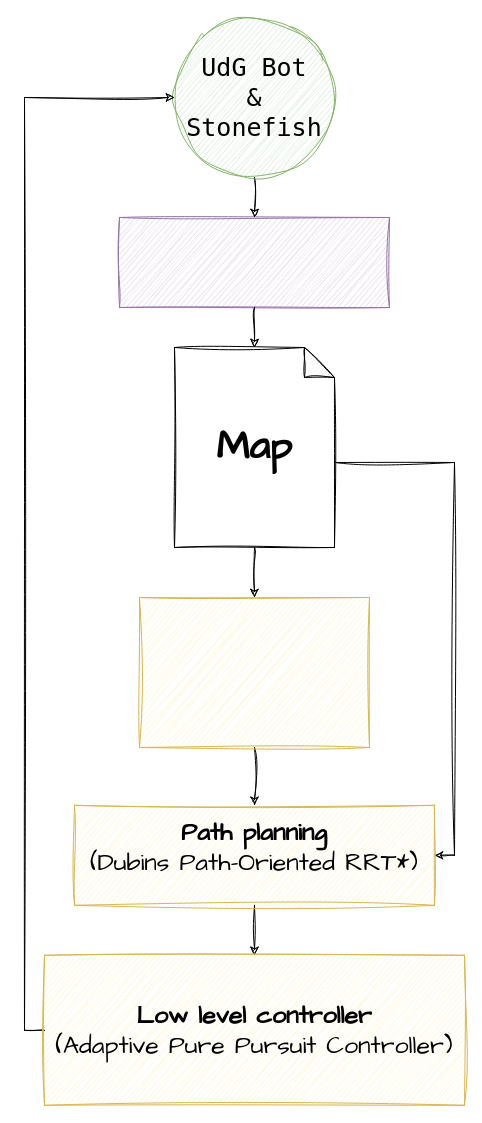
The diagram is 482 pixels wide and 1123 high, and some of its shapes have lost their labels. Each missing label, with the box of its shape:
2D Lidar: (118, 216, 390, 308)
Frontier Based Exploration: (138, 596, 370, 748)
